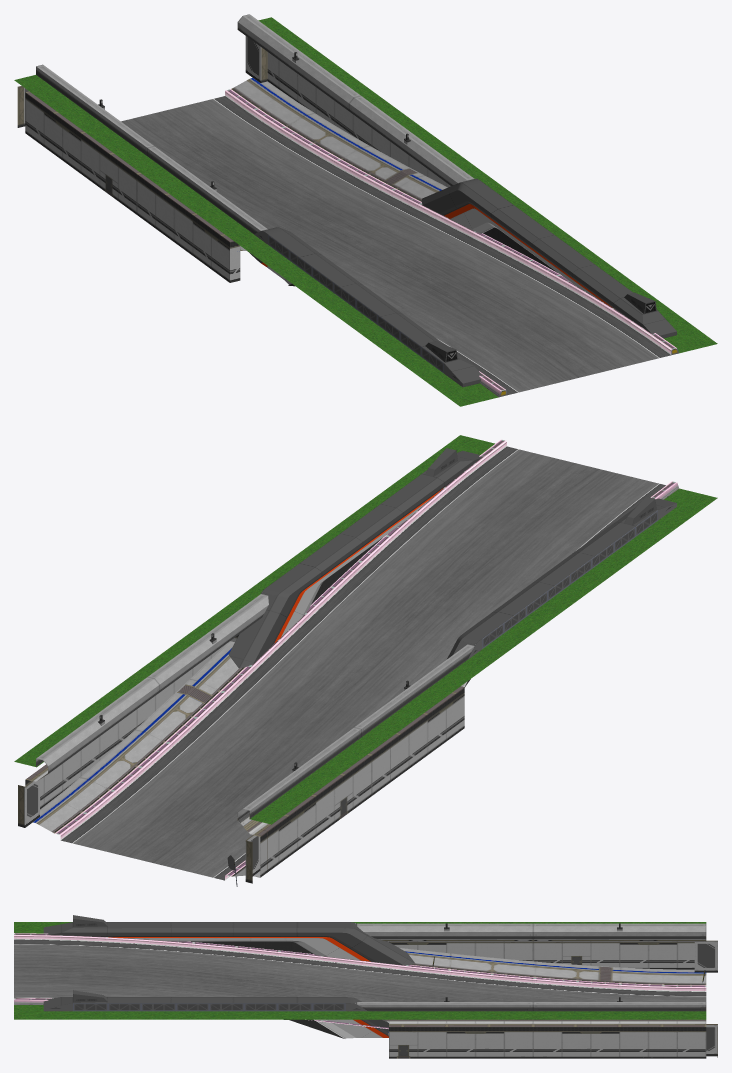
3 views of the same model, one above another, from view 1: azimuth 30°, elevation 25°; view 2: azimuth 150°, elevation 25°; view 3: azimuth 270°, elevation 25° (orthographic). The views are drawn at different scales.
Visible parts, largest first — view 1: straight_road, trench_straight, trench_grass, trench_gat7, trench_sidewalk, wall_straight_tunnel; view 2: straight_road, trench_straight, trench_gat7, trench_grass, trench_sidewalk, wall_straight_tunnel; view 3: trench_straight, straight_road, trench_gat7, trench_grass, wall_straight_tunnel, trench_sidewalk.
Part boxes in pixels (x1=…): straight_road: x1=121, y1=96, x2=670, y2=395; trench_straight: x1=17, y1=14, x2=474, y2=282; trench_grass: x1=14, y1=17, x2=717, y2=406; trench_gat7: x1=247, y1=178, x2=676, y2=387; trench_sidewalk: x1=231, y1=78, x2=447, y2=252; wall_straight_tunnel: x1=225, y1=89, x2=678, y2=397; straight_road: x1=61, y1=446, x2=665, y2=880; trench_straight: x1=18, y1=594, x2=474, y2=883; trench_gat7: x1=228, y1=448, x2=676, y2=687; trench_grass: x1=14, y1=435, x2=717, y2=824; trench_sidewalk: x1=33, y1=641, x2=260, y2=877; wall_straight_tunnel: x1=55, y1=439, x2=679, y2=880; trench_straight: x1=357, y1=923, x2=717, y2=1058; straight_road: x1=14, y1=939, x2=706, y2=1001; trench_gat7: x1=43, y1=915, x2=414, y2=1038; trench_grass: x1=14, y1=922, x2=706, y2=1019; wall_straight_tunnel: x1=14, y1=933, x2=706, y2=1028; trench_sidewalk: x1=388, y1=948, x2=706, y2=1035.
Bounding box in the file's own units: 6400 × 2262 × 19524.
